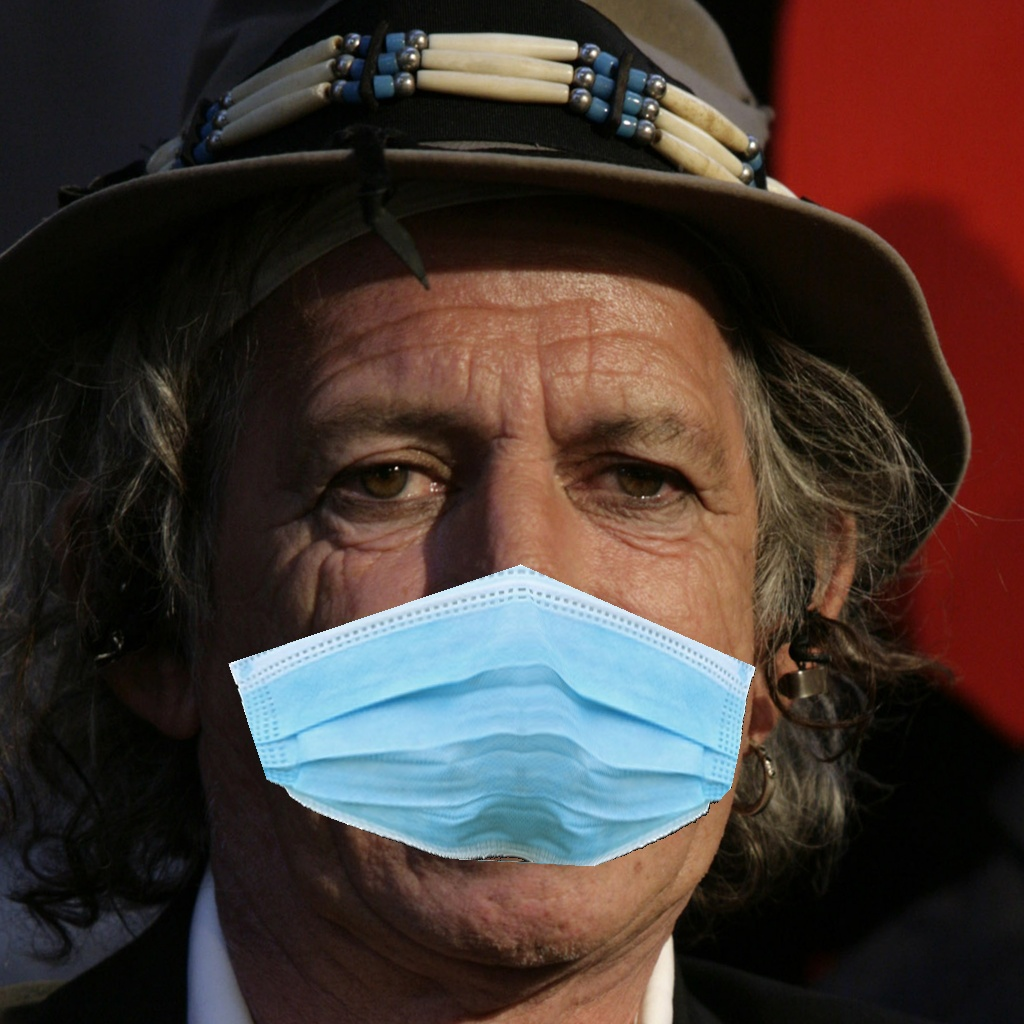mask_weared_incorrect: (188, 387, 799, 920)
